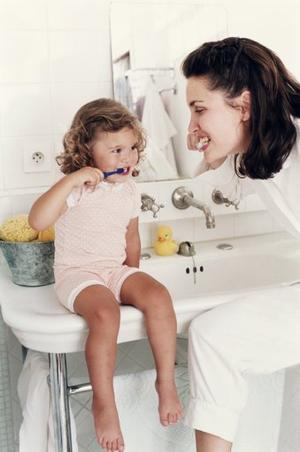person: (28, 97, 183, 451)
